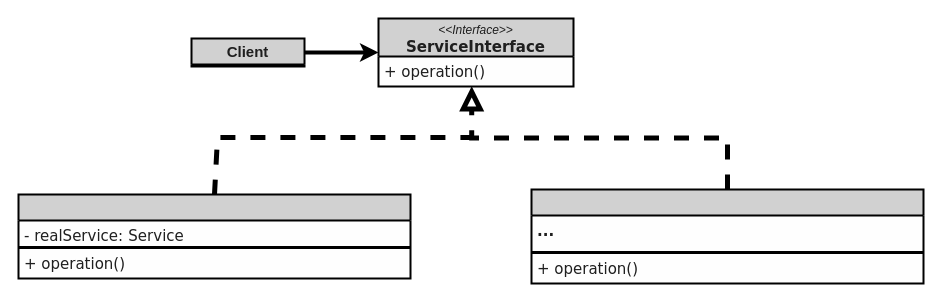
Some shapes in this 942 by 303 pixel diagram are drawn without their labels. The box of each missing label's shape, as (x1, y1, x2, y2) in pixels:
Proxy: (17, 193, 411, 279)
Service: (530, 188, 924, 284)
